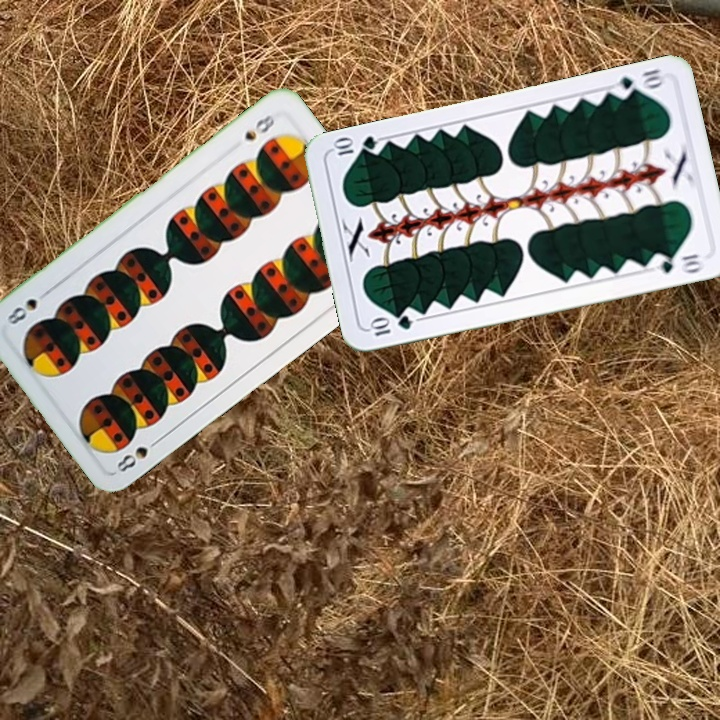G10: (608, 65, 667, 101), (366, 311, 415, 339)
S8: (112, 433, 164, 475), (240, 108, 277, 143)
